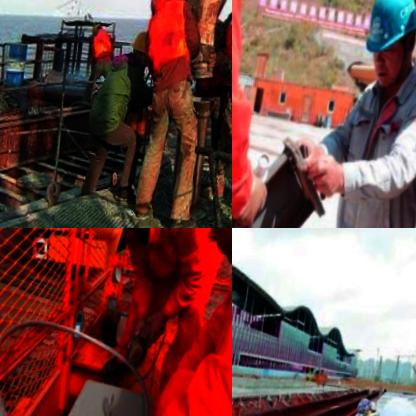helmet: (355, 0, 416, 97), (75, 228, 157, 261), (364, 387, 416, 416), (129, 29, 157, 73)
